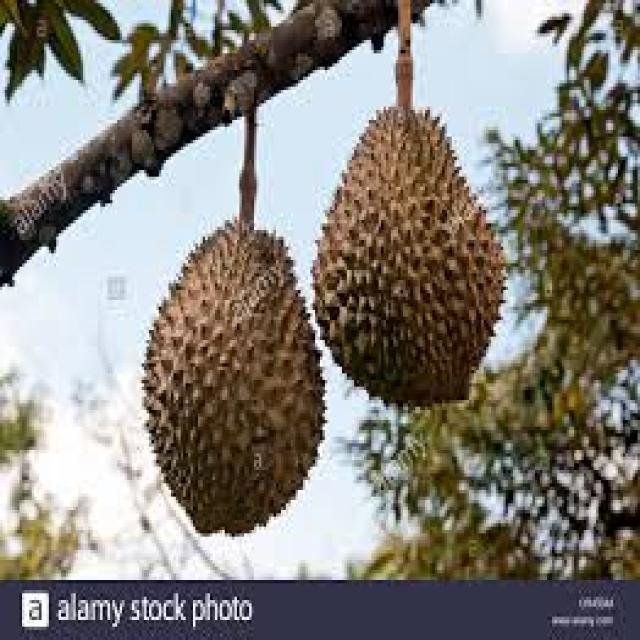mature: (312, 107, 504, 405), (142, 223, 324, 533)
